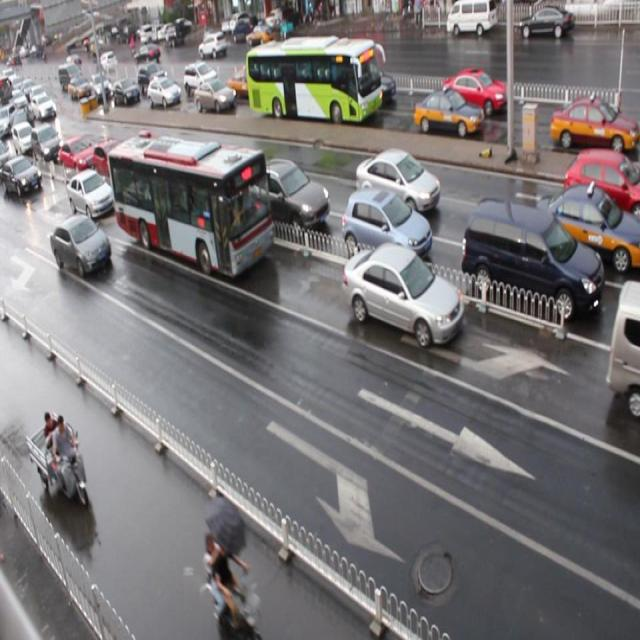car: (342, 241, 462, 350), (534, 182, 640, 275), (340, 188, 430, 272), (560, 147, 640, 225), (354, 148, 439, 219), (247, 159, 328, 233), (550, 97, 623, 154), (50, 214, 112, 278), (176, 150, 241, 207), (416, 87, 483, 139), (444, 70, 512, 118), (335, 64, 397, 109), (66, 170, 115, 219), (131, 145, 178, 194), (0, 153, 42, 200), (194, 78, 237, 114), (88, 136, 125, 175), (59, 135, 95, 173), (183, 61, 217, 97), (227, 70, 265, 102), (148, 78, 181, 109), (30, 127, 58, 162), (137, 64, 167, 95), (112, 79, 141, 108), (91, 74, 111, 103)
truck: (461, 195, 603, 325), (608, 278, 640, 412)
van: (107, 133, 273, 281), (247, 35, 383, 125)
